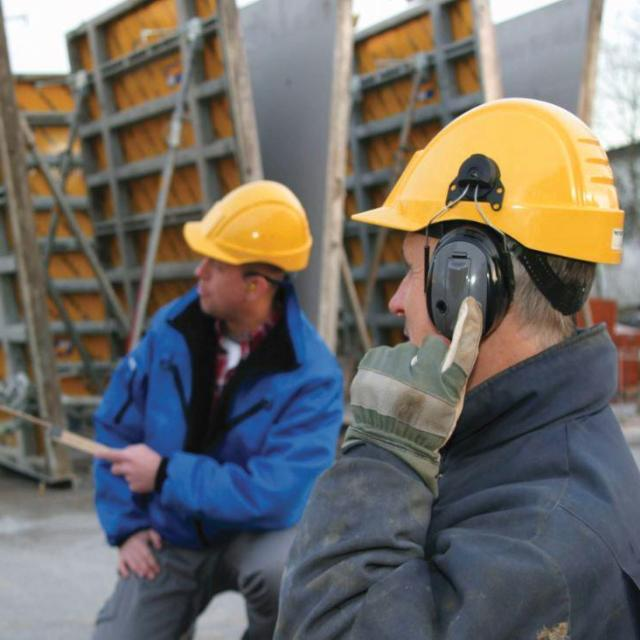face_nomask: (184, 255, 254, 321)
hand_glove: (335, 300, 496, 474)
hand_noglove: (102, 417, 170, 500), (108, 522, 164, 598)
head_helmet: (350, 96, 627, 266), (179, 176, 315, 270)
person: (337, 111, 640, 640), (96, 209, 338, 640)
